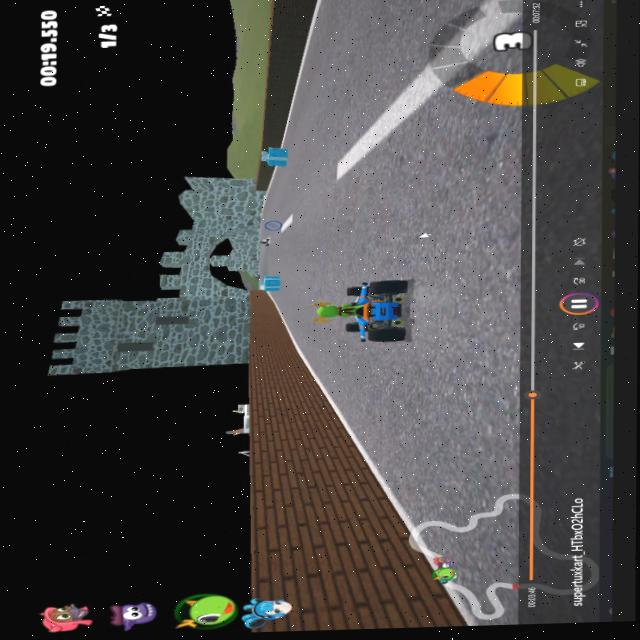bonus: (264, 141, 290, 170), (259, 274, 283, 294)
enemy_kart: (258, 233, 274, 250)
player_kart: (316, 280, 418, 341)
track: (442, 0, 520, 593), (291, 0, 453, 280), (371, 339, 436, 466), (319, 341, 371, 386), (262, 172, 295, 231), (398, 459, 447, 498), (421, 275, 446, 338), (346, 386, 372, 423), (294, 313, 314, 347), (277, 295, 313, 312), (264, 250, 288, 271), (277, 233, 292, 249), (287, 279, 307, 291), (252, 256, 265, 269), (381, 462, 389, 479)
